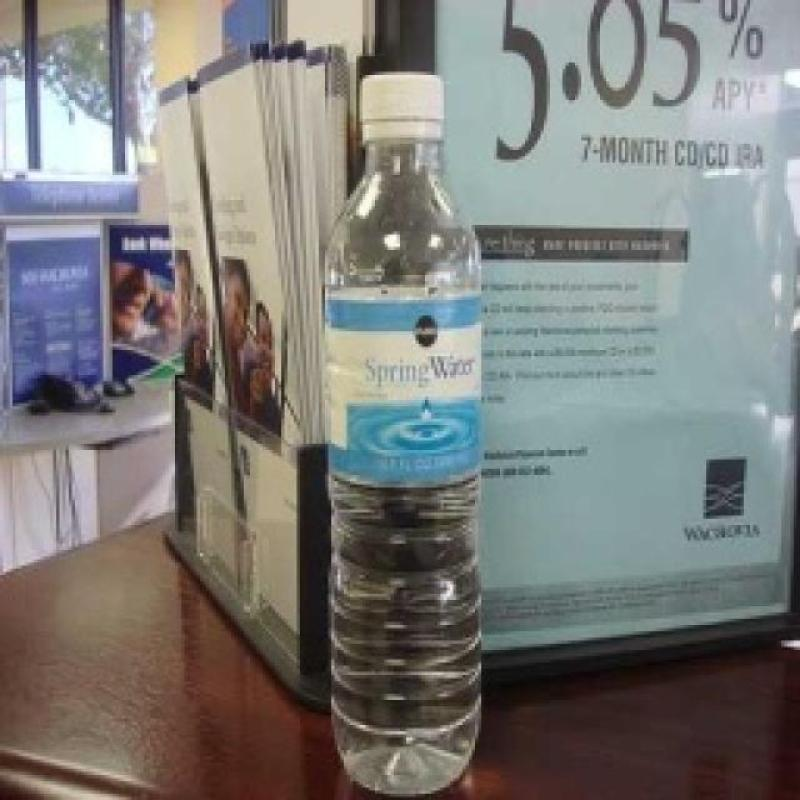botella: (319, 71, 491, 790)
